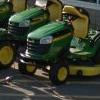Tractor: (5, 5, 100, 89)
